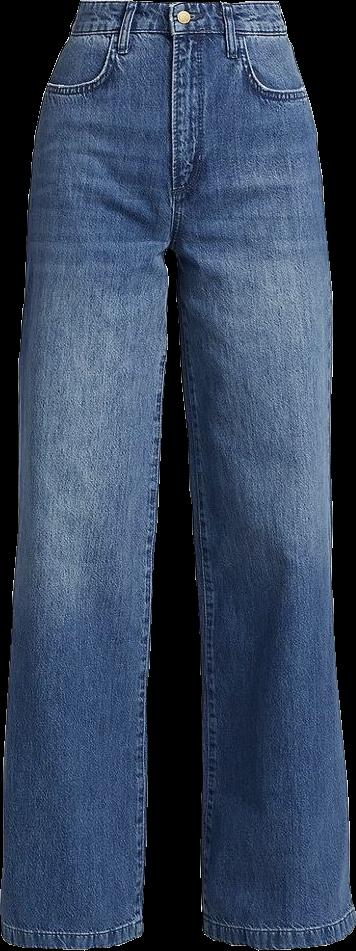Hemline: (203, 917, 355, 949), (0, 924, 145, 950)
Pantleg: (170, 1, 355, 948), (0, 0, 171, 948)
Waistline: (68, 29, 286, 44), (79, 0, 283, 12)
